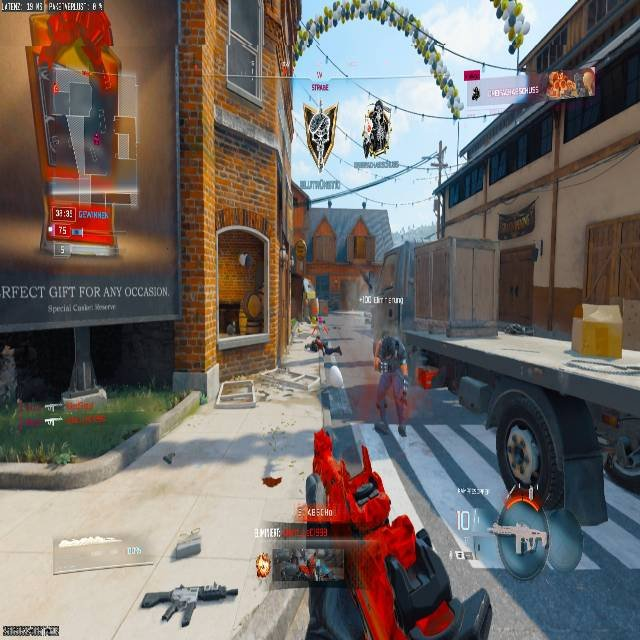head: (381, 334, 399, 352)
player: (372, 331, 410, 437)
